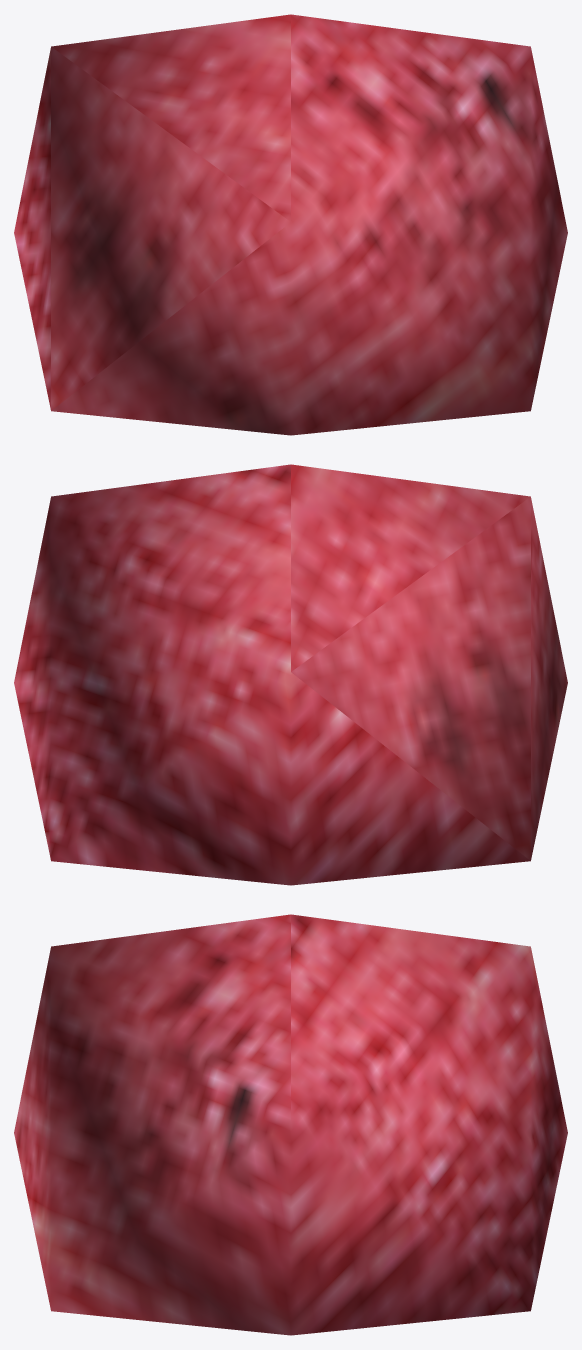
File: Watermelon_fx.FBX
3 views of the same model, one above another, from view 1: azimuth 30°, elevation 25°; view 2: azimuth 150°, elevation 25°; view 3: azimuth 270°, elevation 25° (orthographic).
Parts seen in each view (by area): view 1: Watermelon_fx; view 2: Watermelon_fx; view 3: Watermelon_fx.
Boxes of the visible parts, box(x1,y1,x2,y2) form: Watermelon_fx: box(14, 14, 567, 435); Watermelon_fx: box(14, 464, 567, 885); Watermelon_fx: box(14, 914, 567, 1335).
Bounding box in the file's own units: 61.37 × 38.38 × 56.97.
